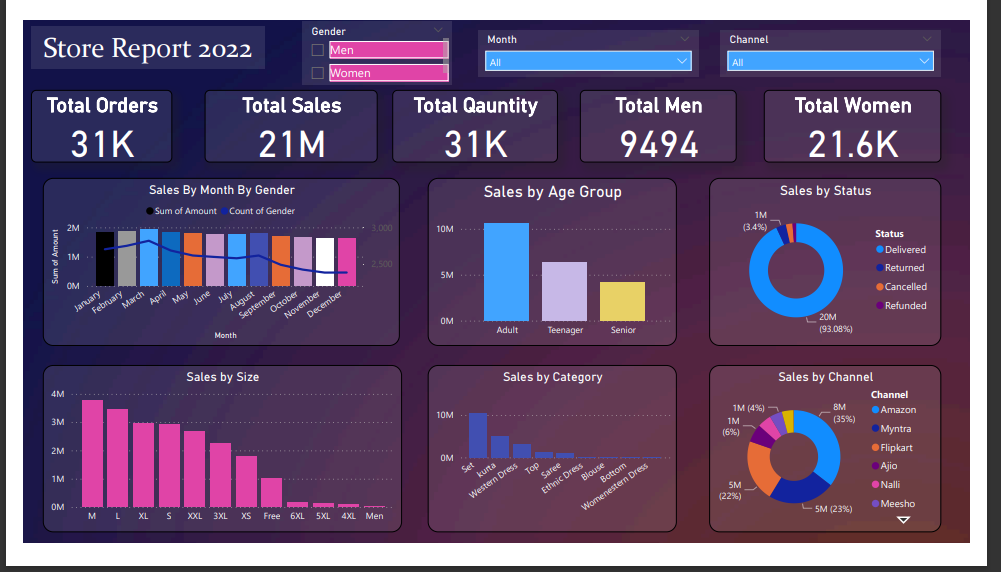

What the dashboard file says about the page in this screenshot:
{"tool":"powerbi","page":{"name":"Page 1","canvas":[1280,720],"ordinal":0},"visuals":[{"type":"textbox","box":[10.1,13.4,315.8,57.1],"z":0},{"type":"card","title":"Total Orders ","fields":{"Values":["CountNonNull(store_data.Order ID)"]},"box":[9.9,99.2,191.3,97.8],"z":1000},{"type":"card","title":"Total Sales","fields":{"Values":["Sum(store_data.Amount)"]},"box":[245.2,99.2,233.9,97.8],"z":2000},{"type":"card","title":"Total Qauntity","fields":{"Values":["Sum(store_data.Qty)"]},"box":[498.9,99.2,223.9,97.8],"z":3000},{"type":"card","title":"Total Men ","fields":{"Values":["CountNonNull(store_data.Gender)"]},"box":[752.6,99.2,212.6,97.8],"z":4000},{"type":"card","title":"Total Women","fields":{"Values":["CountNonNull(store_data.Gender)"]},"box":[1002,99.2,239.5,97.8],"z":5000},{"type":"lineStackedColumnComboChart","title":"Sales By Month By Gender","fields":{"Category":["store_data.Date.Variation.Date Hierarchy.Month"],"Y":["Sum(store_data.Amount)"],"Y2":["CountNonNull(store_data.Gender)"]},"box":[25.5,218.3,483.3,226.8],"z":6000},{"type":"columnChart","title":"Sales by Size","fields":{"Y":["Sum(store_data.Amount)"],"Category":["store_data.Size"]},"box":[25.5,470.6,486.1,226.8],"z":7000},{"type":"columnChart","title":"Sales by Category","fields":{"Y":["Sum(store_data.Amount)"],"Category":["store_data.Category"]},"box":[547.1,470.6,337.3,226.8],"z":8000},{"type":"donutChart","title":"Sales by Status","fields":{"Category":["store_data.Status"],"Y":["Sum(store_data.Amount)"]},"box":[928.3,218.3,313.2,226.8],"z":9000},{"type":"donutChart","title":"Sales by Channel ","fields":{"Category":["store_data.Channel "],"Y":["Sum(store_data.Amount)"]},"box":[928.3,470.6,313.2,226.8],"z":10000},{"type":"slicer","fields":{"Values":["store_data.Gender"]},"box":[377,5.7,202.7,86.5],"z":11000},{"type":"columnChart","title":"Sales by Age Group","fields":{"Y":["Sum(store_data.Amount)"],"Category":["store_data.Age group"]},"box":[547.1,218.3,337.3,226.8],"z":12000},{"type":"slicer","fields":{"Values":["store_data.Date.Variation.Date Hierarchy.Month"]},"box":[615.1,18.4,299.1,62.4],"z":14000},{"type":"slicer","fields":{"Values":["store_data.Channel "]},"box":[942.5,18.4,299.1,62.4],"z":15000}]}

Visuals, with their boxes in screenshot pixels (x1, y1, x2, y2), scaled from the page's 1280x720 canvas onto the 1001x572 screenshot:
textbox: 8:11:255:56
"Total Orders " card: 8:79:157:157
"Total Sales" card: 192:79:375:157
"Total Qauntity" card: 390:79:565:157
"Total Men " card: 589:79:755:157
"Total Women" card: 784:79:971:157
"Sales By Month By Gender" lineStackedColumnComboChart: 20:173:398:354
"Sales by Size" columnChart: 20:374:400:554
"Sales by Category" columnChart: 428:374:692:554
"Sales by Status" donutChart: 726:173:971:354
"Sales by Channel " donutChart: 726:374:971:554
slicer - store_data.Gender: 295:5:453:73
"Sales by Age Group" columnChart: 428:173:692:354
slicer - store_data.Date.Variation.Date Hierarchy.Month: 481:15:715:64
slicer - store_data.Channel : 737:15:971:64
